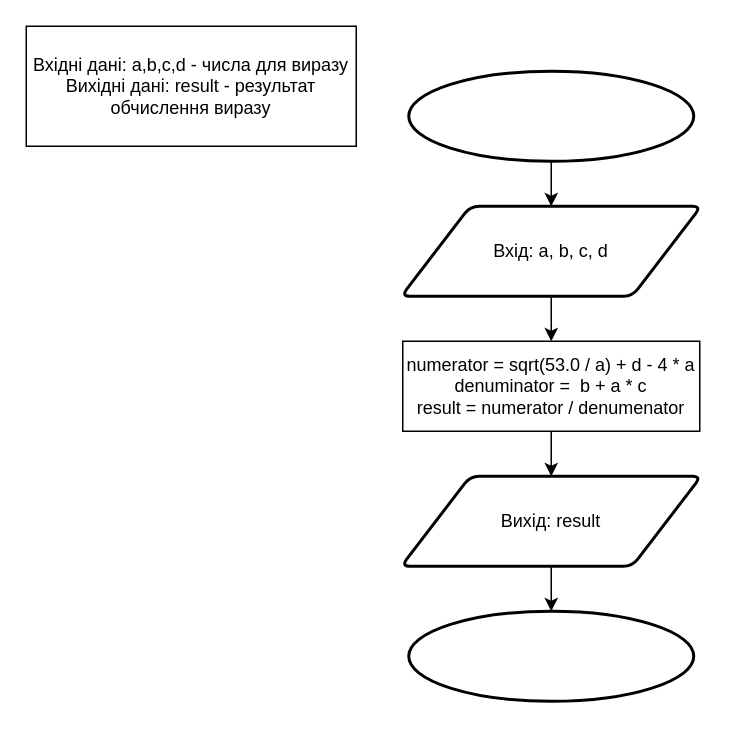
This 729x729 diagram has some shape labels left out. The shapes that lost their labels are listed below. From the top down, each one's centre as x and y in pixels, then its label:
the point at 550,115: Старт
the point at 550,655: Кінець
